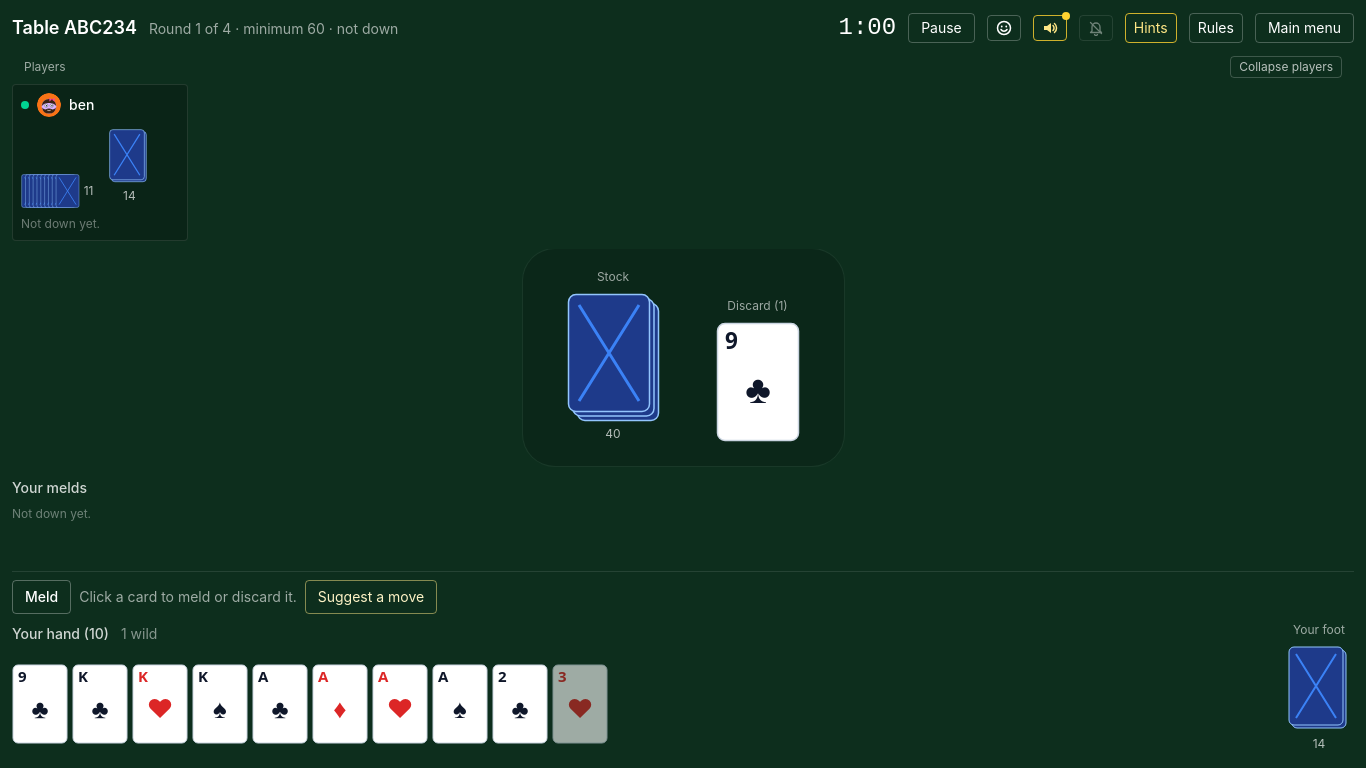
it: staging a lay-down › runs a total against the round minimum as cards go in
Step 1. Click the button named "King of clubs" → (100, 704), box [72,664,128,744]
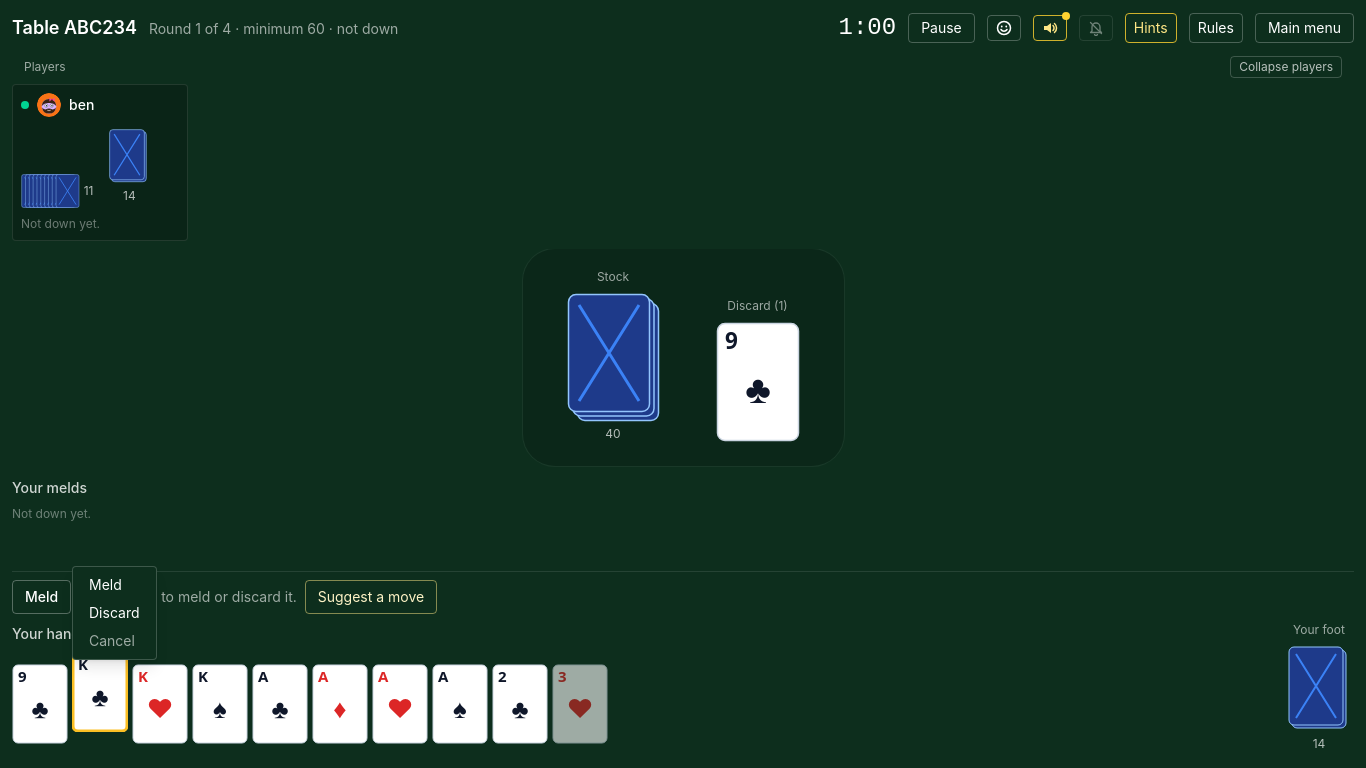
Step 2. Click the menu item "Meld" → (114, 585), box [77,571,152,599]
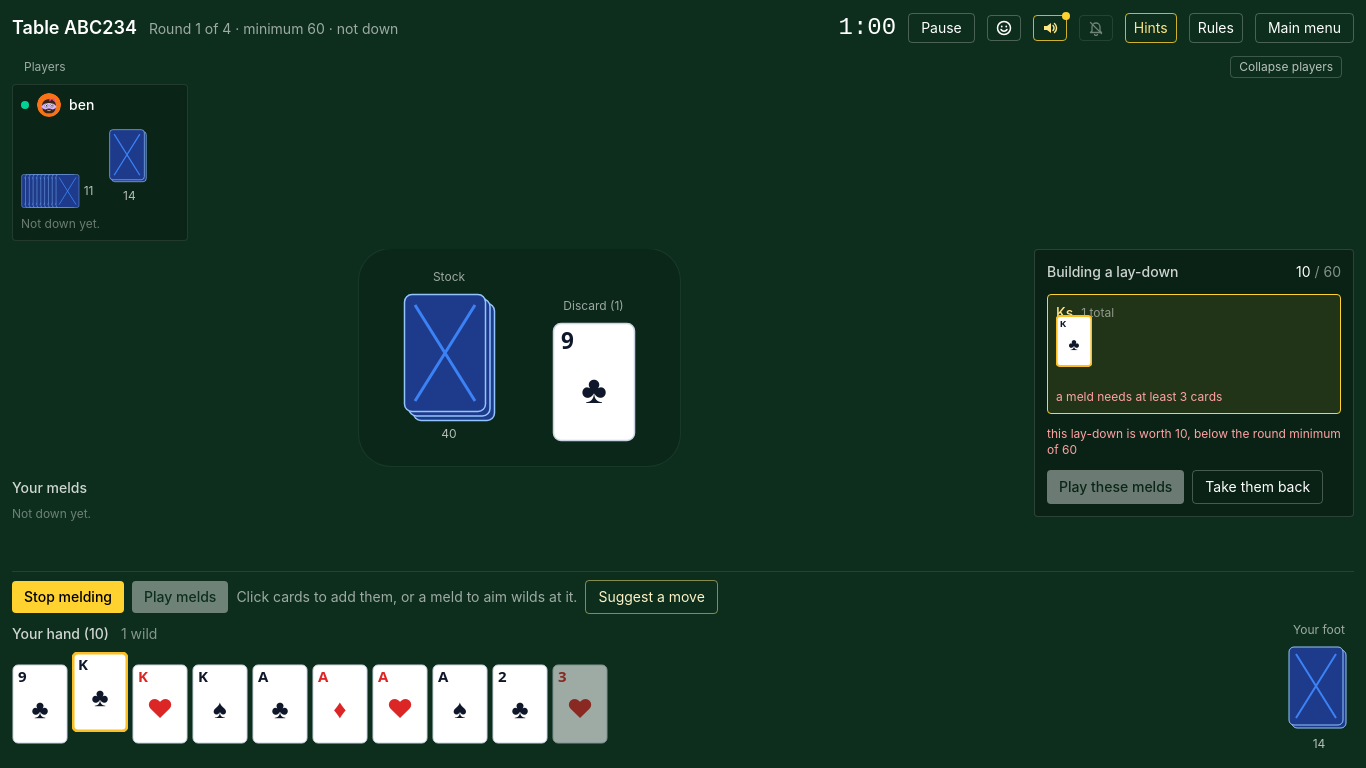
Now the element named "worth 10 of 60 needed" is shown, box [1296,262,1341,282]
Step 3. Click the button named "King of hearts" → (160, 704), box [132,664,188,744]
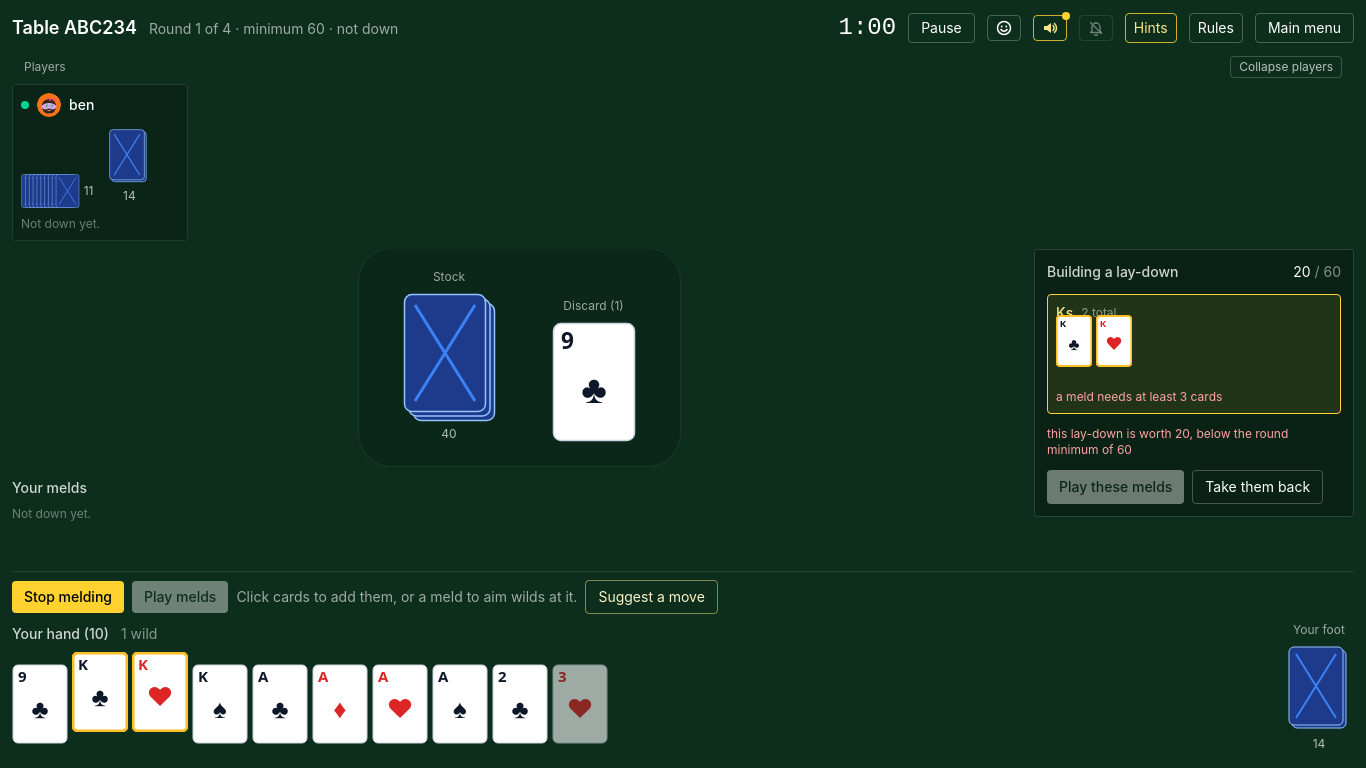
Now the element named "worth 20 of 60 needed" is shown, box [1293,262,1341,282]
